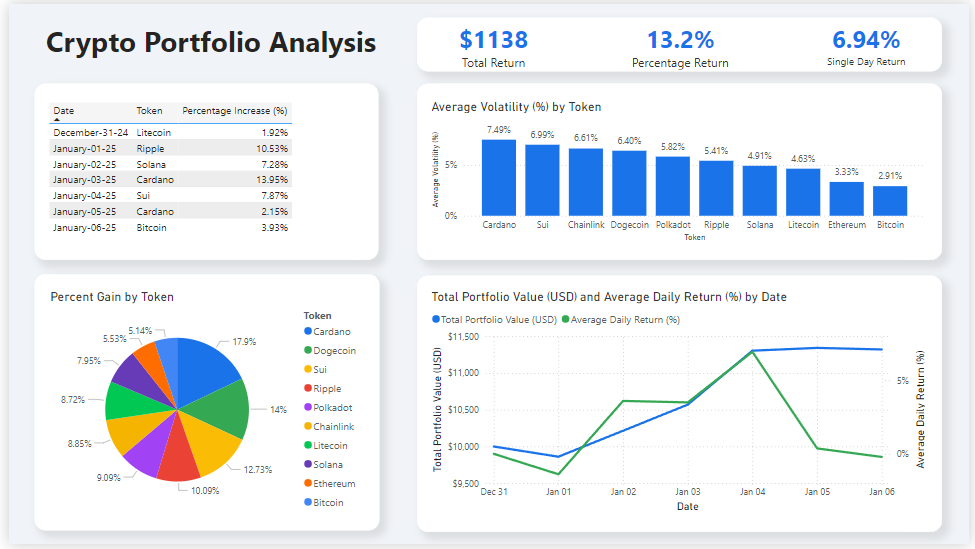

The dashboard page shown, as its layout file describes it:
{"tool":"powerbi","page":{"name":"Page 1","canvas":[1280,720],"ordinal":0},"visuals":[{"type":"shape","box":[544,18,700,72],"z":0},{"type":"shape","box":[543.3,361.7,700,341.7],"z":1000},{"type":"shape","box":[543.3,106.7,700,235],"z":2000},{"type":"shape","box":[33.3,360,460,341.7],"z":3000},{"type":"shape","box":[33.3,106.7,458.3,235],"z":4000},{"type":"lineChart","fields":{"Category":["Performance.Date"],"Y":["Sum(Performance.Total Portfolio Value)"],"Y2":["Sum(Performance.Average Daily Return)"]},"box":[558.3,380,668.3,301.7],"z":5000},{"type":"tableEx","fields":{"Values":["DailyReturns.Date","DailyReturns.Token","DailyReturns.Percentage Increase"]},"box":[48,126,428,196],"z":6000},{"type":"pieChart","fields":{"Category":["Contribution.Token"],"Y":["Sum(Contribution.Percent Gain)"]},"box":[50,380,426.7,301.7],"z":7000},{"type":"columnChart","fields":{"Category":["Volatility.Token"],"Y":["Sum(Volatility.Average Volatility (%))"]},"box":[558.3,126.7,668.3,195],"z":8000},{"type":"textbox","box":[34,18,476,72],"z":9000},{"type":"textbox","box":[820,18,150,74],"z":10000},{"type":"textbox","box":[1068,18,150,72],"z":11000},{"type":"textbox","box":[572,18,148,74],"z":12000}]}

Visuals, with their boxes in screenshot pixels (x1, y1, x2, y2), scaled from the page's 1280x720 canvas onto the 975x549 screenshot:
shape: 414:14:948:69
shape: 414:276:947:536
shape: 414:81:947:261
shape: 25:274:376:535
shape: 25:81:374:261
lineChart - Performance.Date x Sum(Performance.Total Portfolio Value): 425:290:934:520
tableEx - DailyReturns.Date x DailyReturns.Token: 37:96:363:246
pieChart - Contribution.Token x Sum(Contribution.Percent Gain): 38:290:363:520
columnChart - Volatility.Token x Sum(Volatility.Average Volatility (%)): 425:97:934:245
textbox: 26:14:388:69
textbox: 625:14:739:70
textbox: 814:14:928:69
textbox: 436:14:548:70
